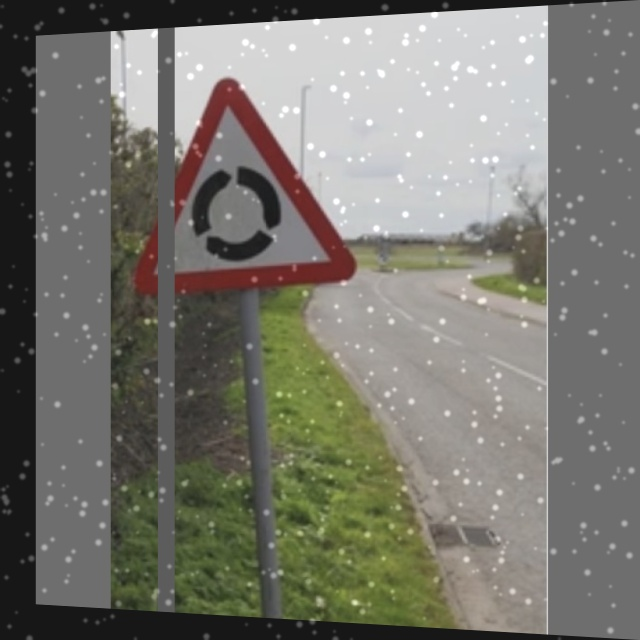Round_About: (145, 69, 352, 285)
